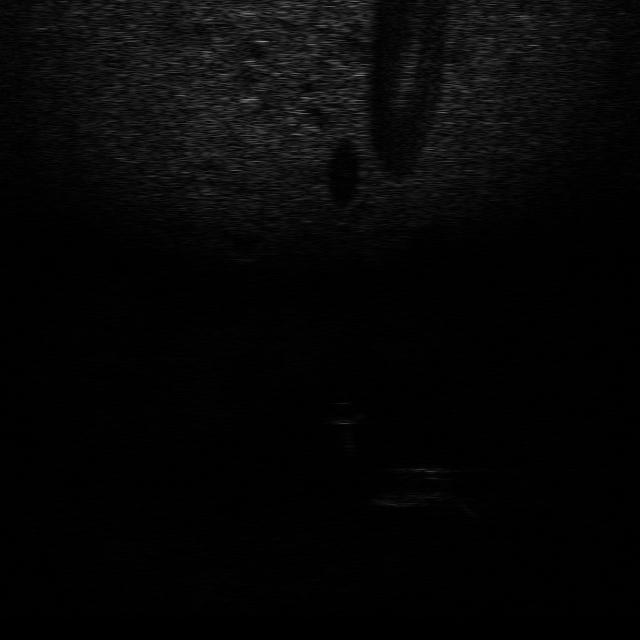ball: (320, 397, 371, 428)
tyre: (369, 462, 456, 510)
